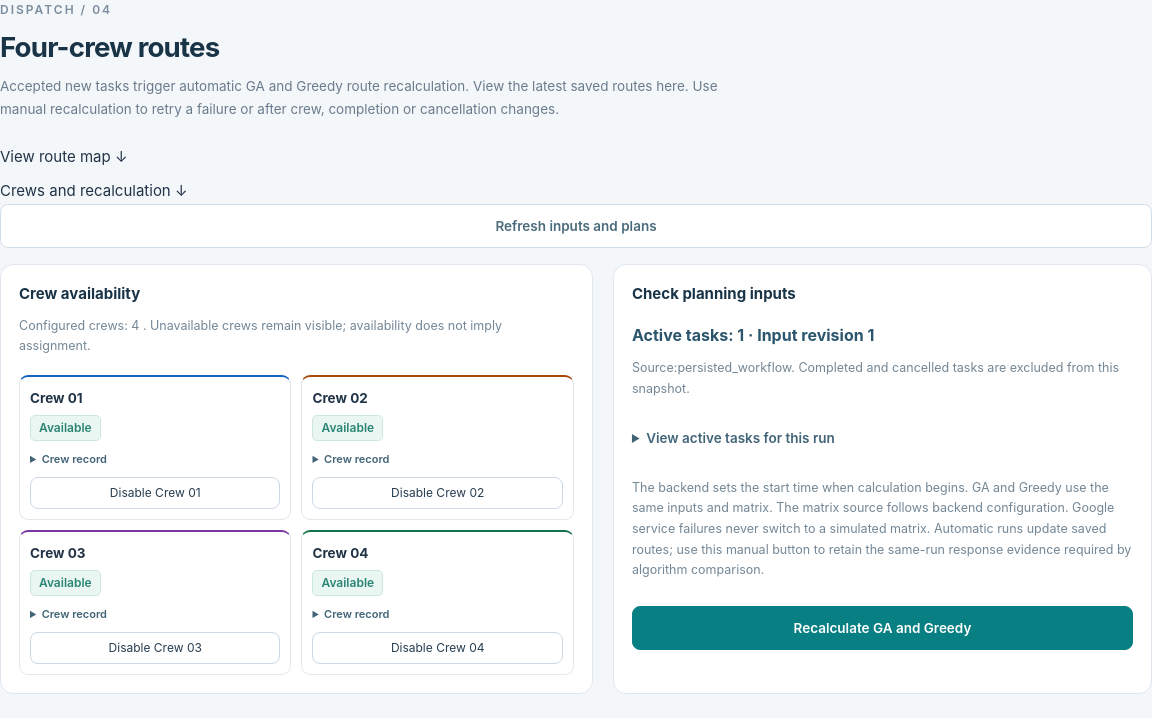
Test: requires refresh after recalculation revision conflict
Check: the button "Disable Crew 02" is enabled, box [312, 477, 563, 509]
Step 1. Click the button "Recalculate GA and Greedy" → [882, 628], box [632, 606, 1133, 650]
(page scrolled)
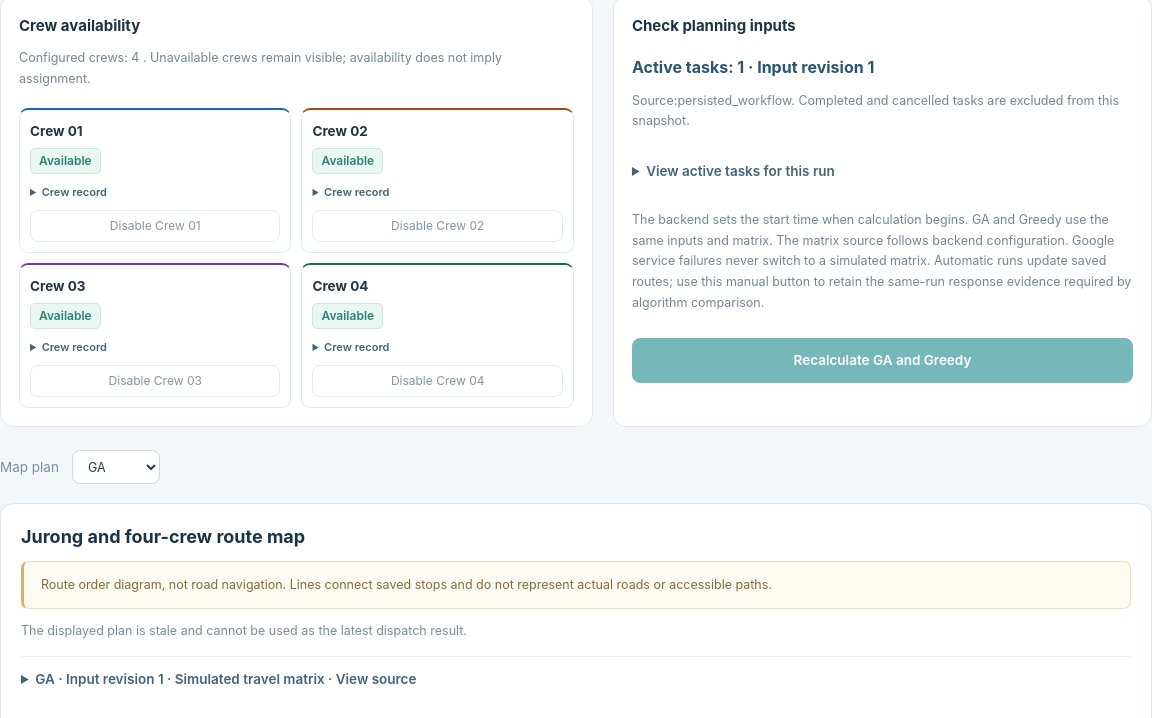
Check: the button "Recalculate GA and Greedy" is disabled, box [632, 338, 1133, 383]
